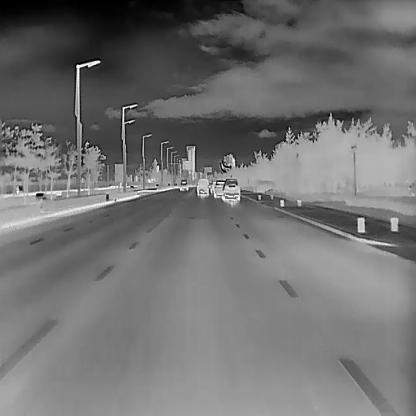car: (221, 177, 239, 202), (196, 177, 209, 197), (213, 180, 226, 198), (209, 180, 222, 194), (180, 179, 188, 191)
